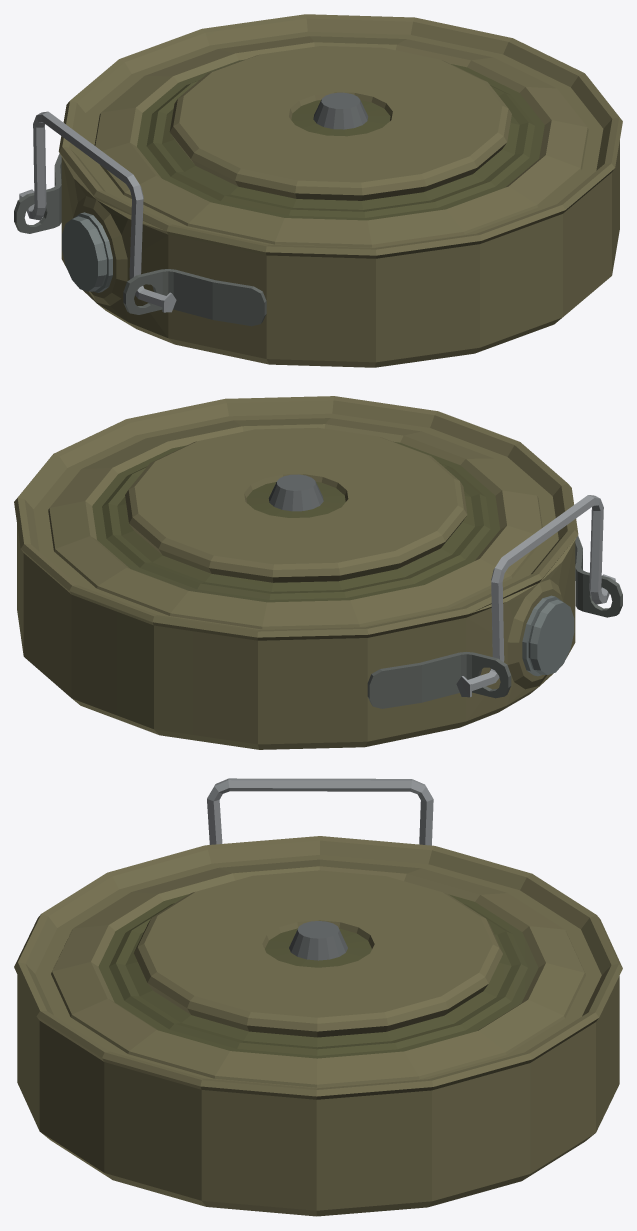
Rendered from SM_LandBomb.fbx.
The picture shows the model from 3 angles, top to bottom: view 1: azimuth 30°, elevation 25°; view 2: azimuth 150°, elevation 25°; view 3: azimuth 270°, elevation 25°; orthographic projection. The views are drawn at different scales.
Visible parts, largest first — view 1: SM_LandBomb; view 2: SM_LandBomb; view 3: SM_LandBomb.
Part boxes in pixels (bbox=[...]): SM_LandBomb: bbox=[14, 14, 622, 367]; SM_LandBomb: bbox=[14, 396, 622, 749]; SM_LandBomb: bbox=[14, 778, 622, 1216].
Size of the model in its own units: 9.28 by 2.95 by 8.85.
Materials: 1 (1 with a texture image).
